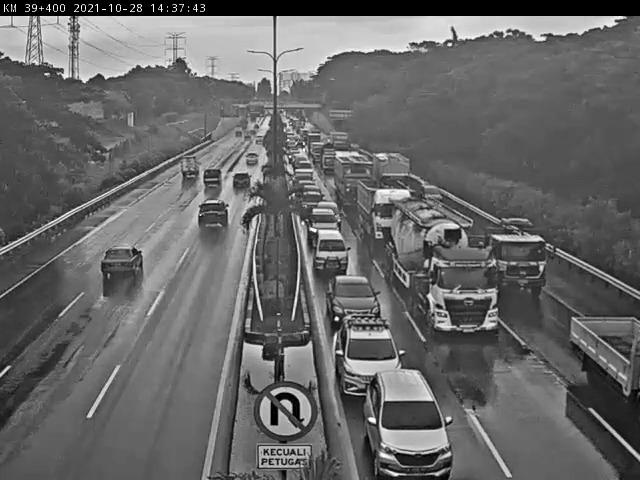big truck: (386, 198, 494, 336), (461, 200, 543, 289), (348, 174, 404, 242), (335, 150, 375, 209)
car: (356, 367, 455, 480), (333, 311, 404, 393), (323, 271, 379, 322), (92, 240, 146, 285), (311, 230, 355, 278), (191, 196, 231, 232), (411, 181, 446, 216), (305, 208, 343, 236), (225, 170, 254, 204), (199, 164, 224, 193), (298, 184, 327, 207), (239, 150, 260, 171)
small truck: (552, 300, 640, 413), (173, 150, 203, 181)
